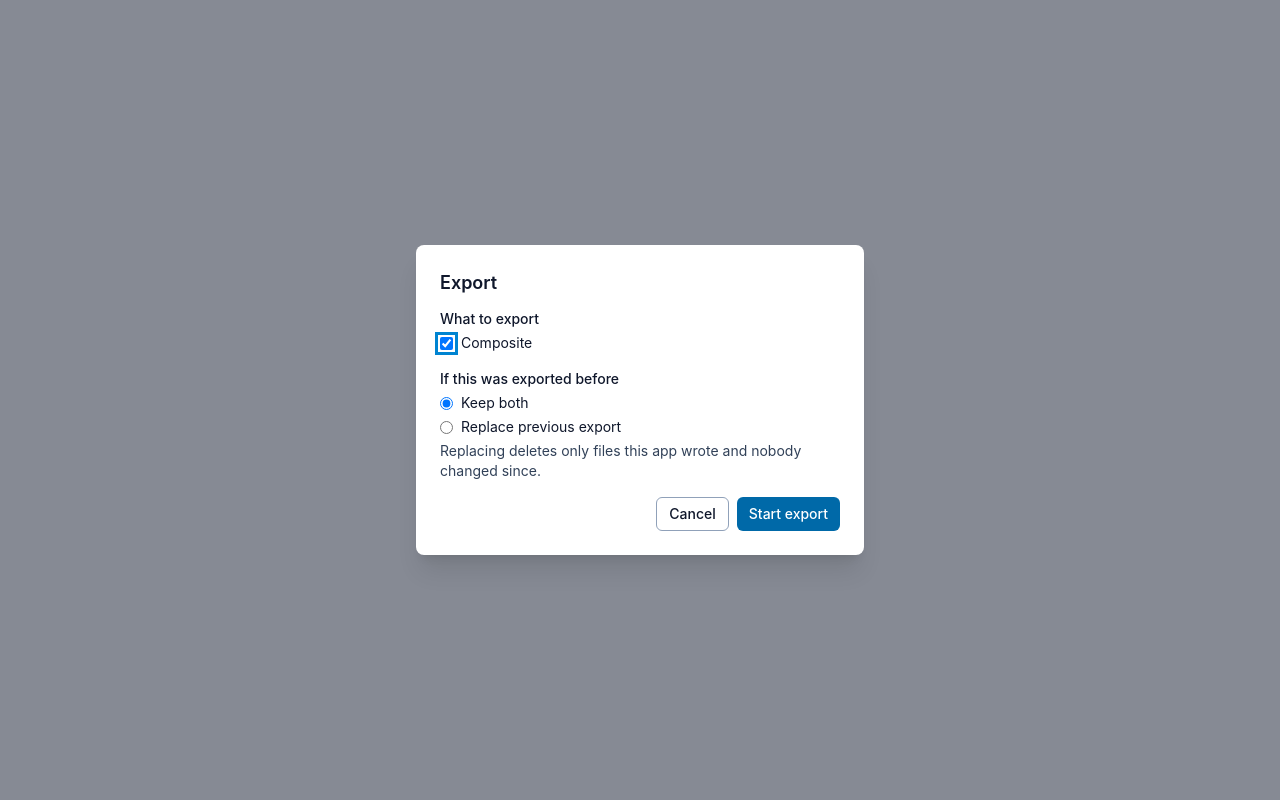
ExportDialog › explains the learning line when learning failed without a message
Click the button "Start export". click: (788, 514)
box: [737, 497, 840, 531]
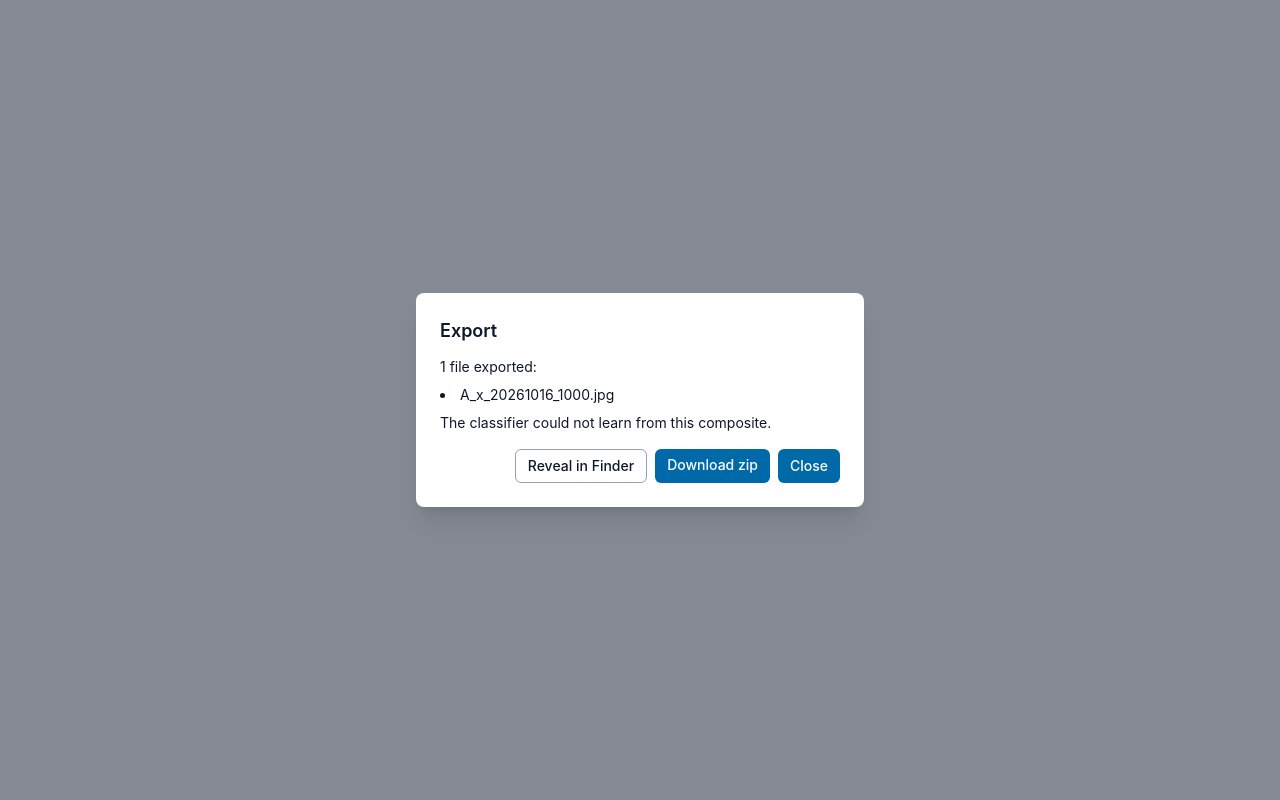
Check: the text "The classifier could not learn from this composite." is shown, box [440, 414, 771, 431]
